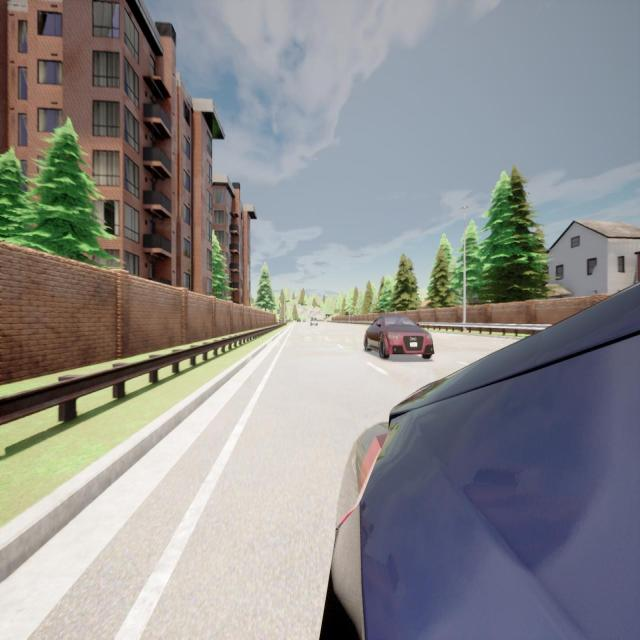Vehicle: (322, 284, 640, 638), (364, 315, 434, 359), (310, 317, 318, 326), (296, 318, 301, 322), (303, 319, 306, 323)
